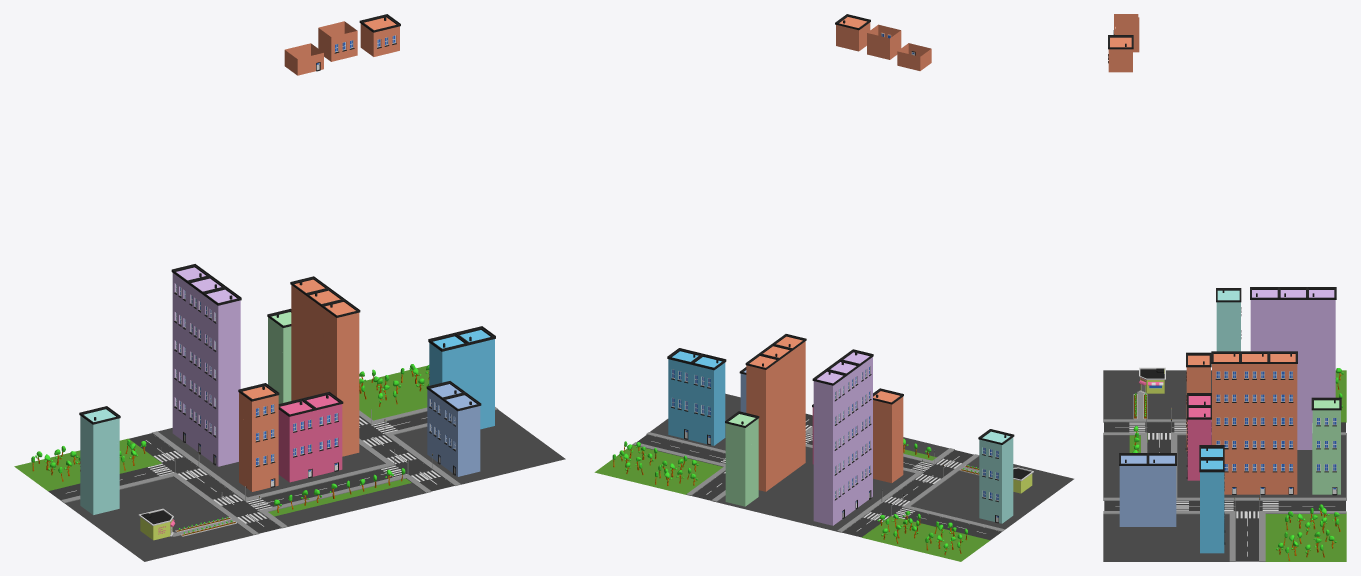
Rendered from map2.fbx.
3 renders of one model, left to right at view 1: azimuth 30°, elevation 25°; view 2: azimuth 150°, elevation 25°; view 3: azimuth 270°, elevation 25°, orthographic. The views are drawn at different scales.
Visible parts, largest first — view 1: buildings, land, road, tratuar, zebra, trees, zebra.012, Cube.010, Cube.001, Cube.003; view 2: buildings, land, road, tratuar, trees, zebra, Cube.010, Cube.001, Cube.003, zebra.012; view 3: buildings, land, road, tratuar, trees, zebra, Cube.010, zebra.012, Cube.001.
Boxes of the visible parts, box(x1,y1,x2,y2) form: buildings: box(79, 264, 495, 540); land: box(14, 365, 565, 561); road: box(48, 411, 453, 533); tratuar: box(61, 407, 498, 536); zebra: box(147, 417, 442, 524); trees: box(31, 364, 429, 512); zebra.012: box(148, 417, 440, 523); Cube.010: box(359, 14, 400, 56); Cube.001: box(318, 21, 357, 61); Cube.003: box(284, 43, 323, 75); buildings: box(667, 334, 1033, 525); land: box(594, 393, 1073, 561); road: box(637, 413, 1001, 540); tratuar: box(632, 426, 1004, 532); trees: box(612, 438, 967, 555); zebra: box(714, 424, 963, 522); Cube.010: box(835, 14, 870, 51); Cube.001: box(867, 24, 901, 59); Cube.003: box(897, 43, 931, 70); zebra.012: box(720, 425, 961, 521); buildings: box(1119, 287, 1341, 553); land: box(1103, 370, 1346, 561); road: box(1104, 422, 1345, 561); tratuar: box(1103, 391, 1346, 561); trees: box(1132, 368, 1343, 560); zebra: box(1126, 422, 1281, 521); Cube.010: box(1108, 35, 1133, 72); zebra.012: box(1129, 422, 1278, 518); Cube.001: box(1114, 17, 1139, 52).
Bounding box in the file's own units: 3738 × 4021 × 2005.
